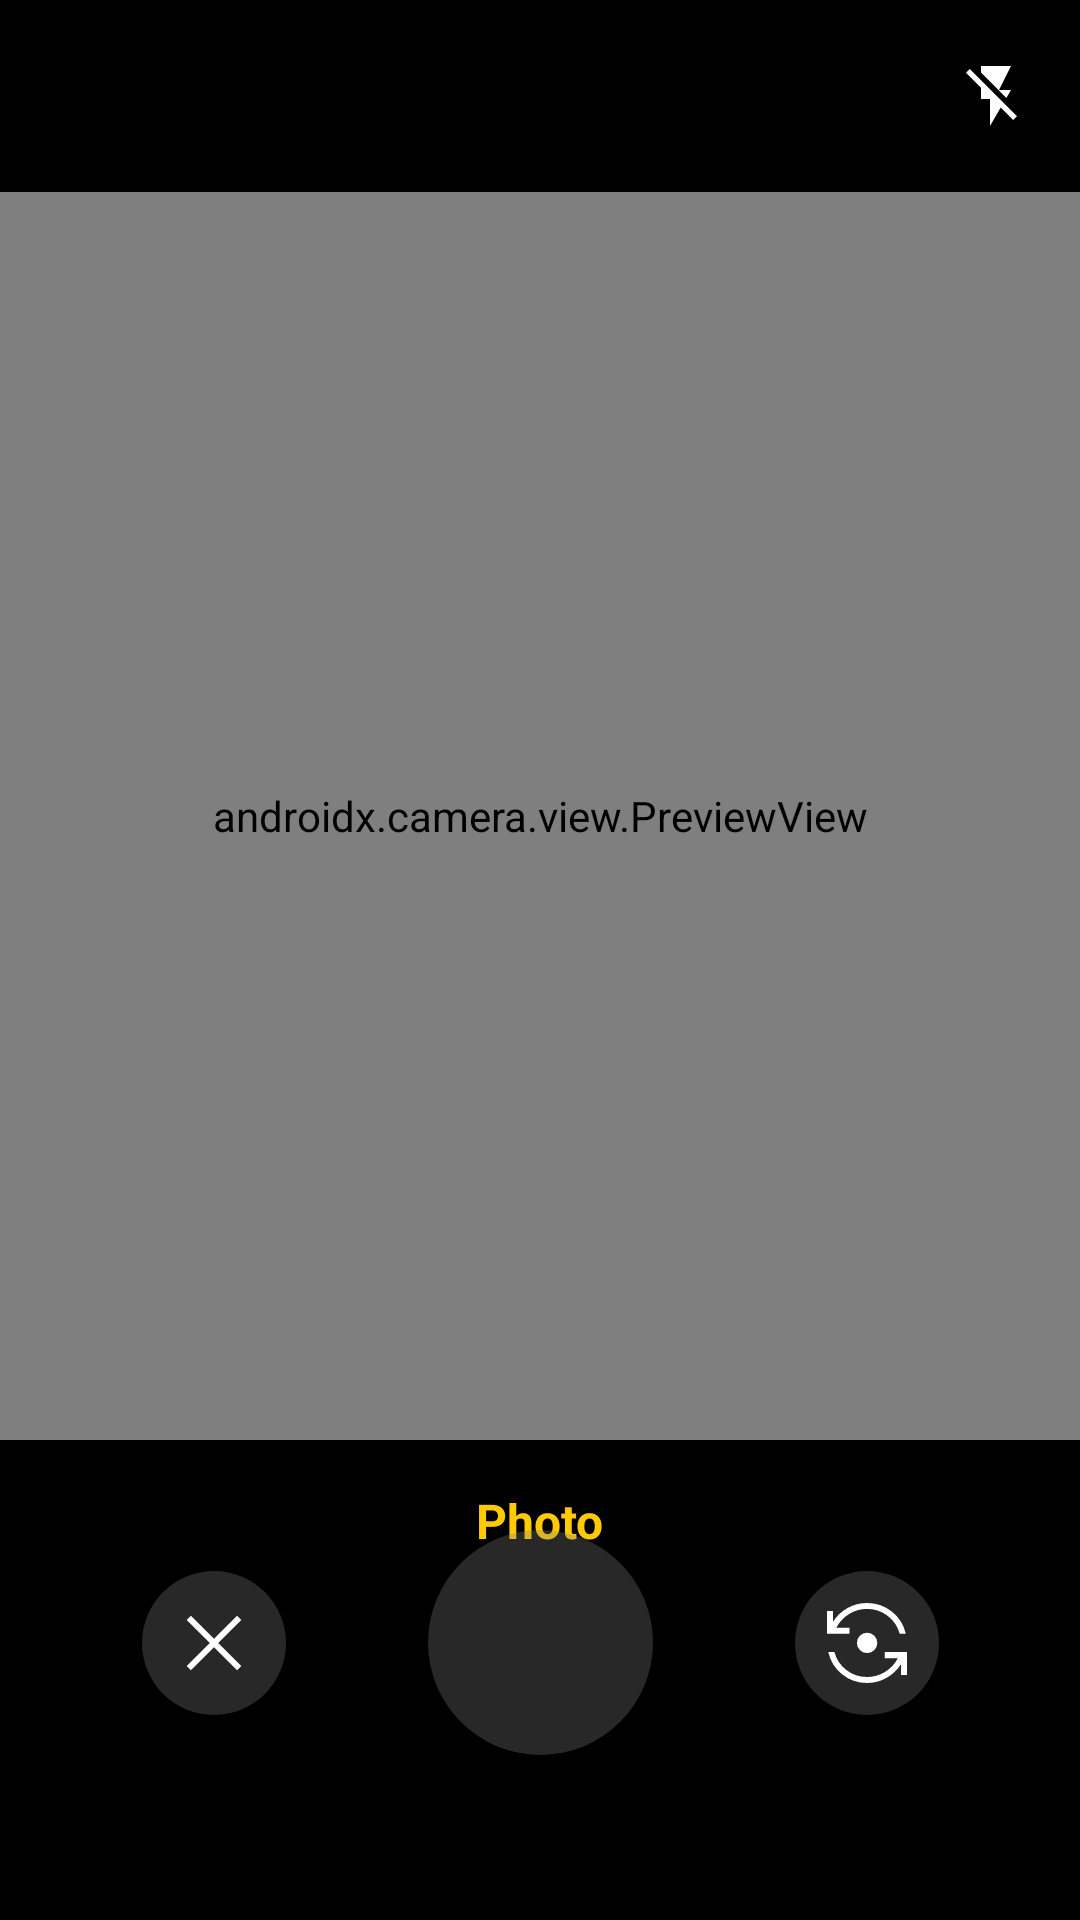

Screen size 1080×1920. Icon name, then its center in pixels as (x=x, y=y):
Cancel button: (x=214, y=1643)
Flash toggle button: (x=991, y=96)
Flip camera button: (x=867, y=1643)
